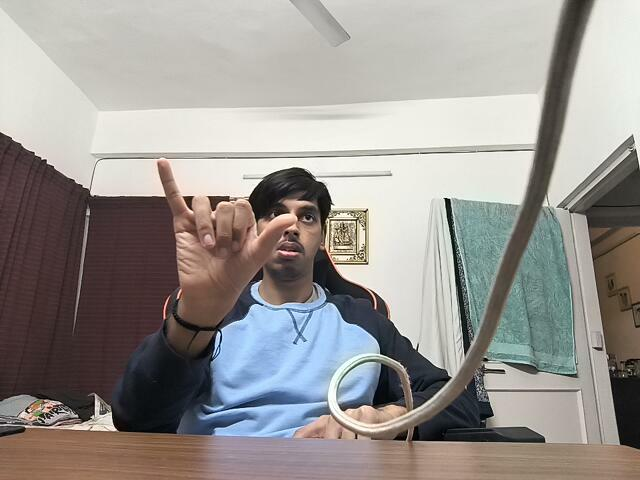FLIP: (136, 145, 307, 320)
